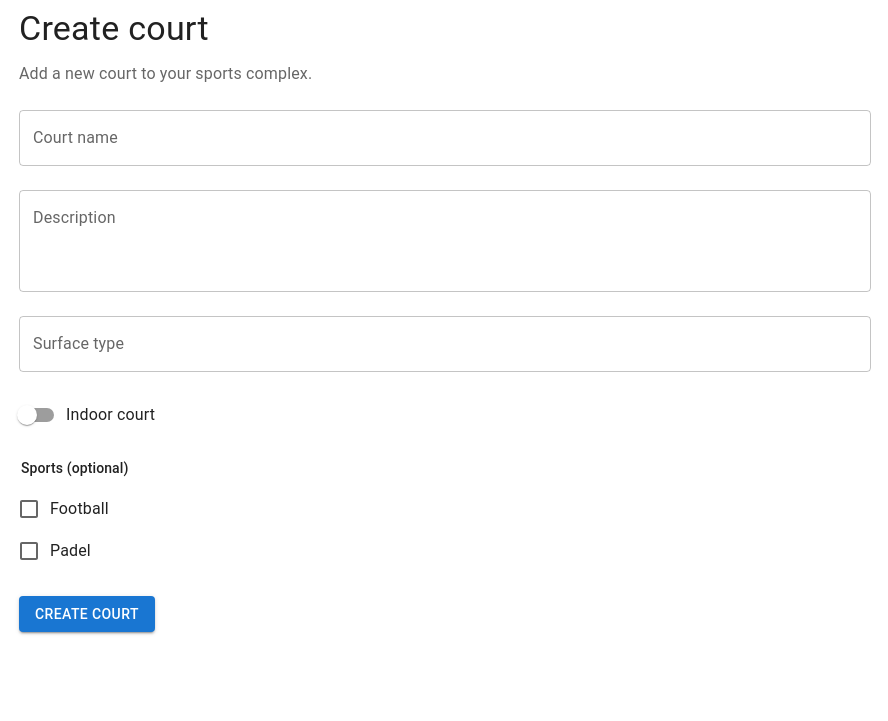
Test case: CreateCourtPage › displays validation errors for missing required fields
Step 1. Click the button "Create court" → (87, 614), box [19,596,155,632]
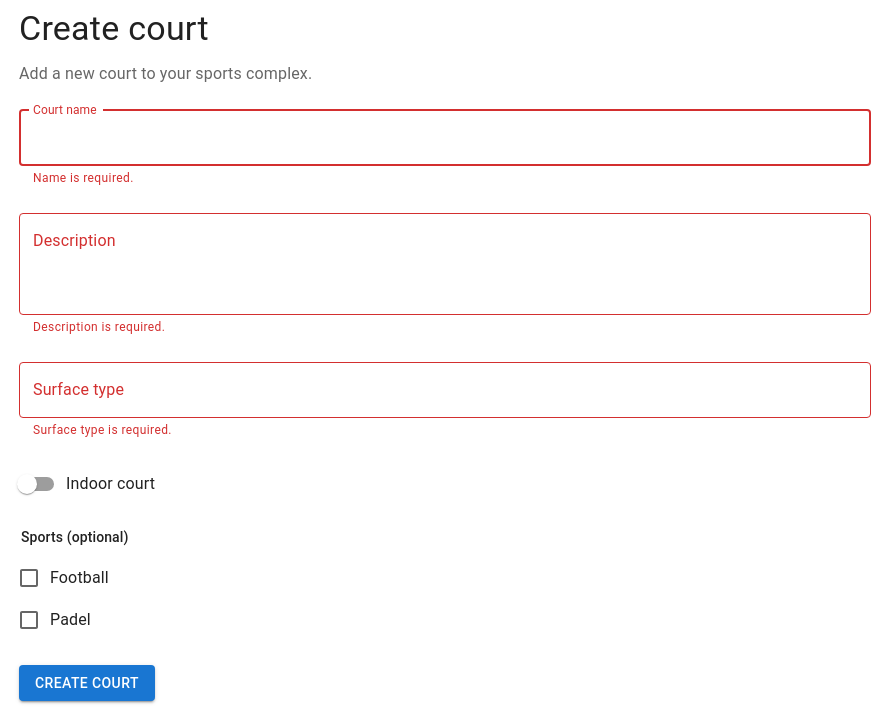
Expected: the text "Name is required." is shown, [33,171,134,185]
Expected: the text "Description is required." is shown, [33,320,165,334]
Expected: the text "Surface type is required." is shown, [33,423,172,437]
